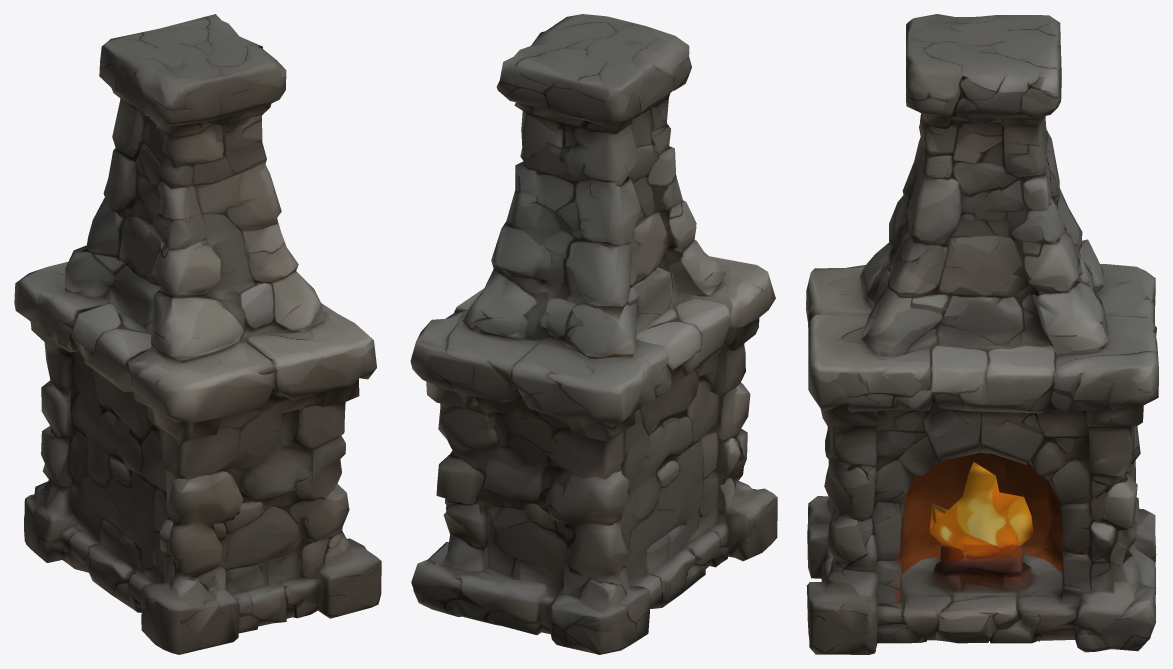
Rendered from fireplace.glb.
3 renders of one model, left to right at view 1: azimuth 30°, elevation 25°; view 2: azimuth 150°, elevation 25°; view 3: azimuth 270°, elevation 25°, orthographic. The views are drawn at different scales.
Visible parts, largest first — view 1: tripo_node_cf307274-e9f9-43fb-b287-bdc8c2d5c07b; view 2: tripo_node_cf307274-e9f9-43fb-b287-bdc8c2d5c07b; view 3: tripo_node_cf307274-e9f9-43fb-b287-bdc8c2d5c07b.
Part boxes in pixels (x1,y1,x2,y2): tripo_node_cf307274-e9f9-43fb-b287-bdc8c2d5c07b: [14, 14, 381, 654]; tripo_node_cf307274-e9f9-43fb-b287-bdc8c2d5c07b: [410, 14, 777, 654]; tripo_node_cf307274-e9f9-43fb-b287-bdc8c2d5c07b: [806, 14, 1158, 654].
Bounding box in the file's own units: 0.431 × 1 × 0.5735.
1 material, 1 textured.
